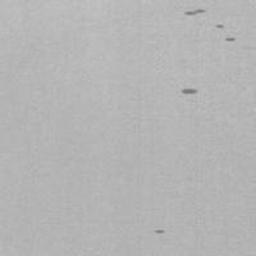Inclusion: (182, 6, 207, 19), (179, 84, 200, 97), (212, 20, 227, 31), (223, 35, 234, 45), (154, 228, 166, 237)
